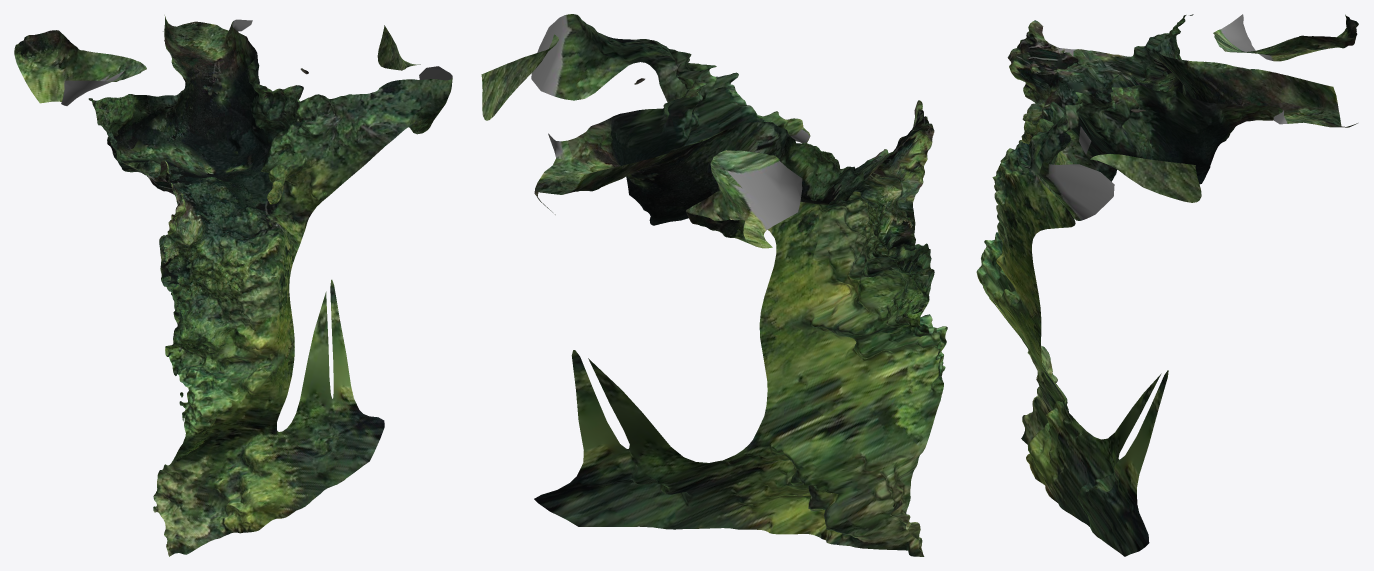
Rendered from Tile_+017_+001.fbx.
3 views of the same model, side by side, from view 1: azimuth 30°, elevation 25°; view 2: azimuth 150°, elevation 25°; view 3: azimuth 270°, elevation 25° (orthographic). The views are drawn at different scales.
Parts seen in each view (by area): view 1: DefaultName; view 2: DefaultName; view 3: DefaultName.
Part boxes in pixels (x1,y1,x2,y2): DefaultName: [14, 15, 452, 556]; DefaultName: [481, 14, 947, 556]; DefaultName: [976, 14, 1358, 556].
Size of the model in its own units: 17.53 by 22.54 by 18.78.
